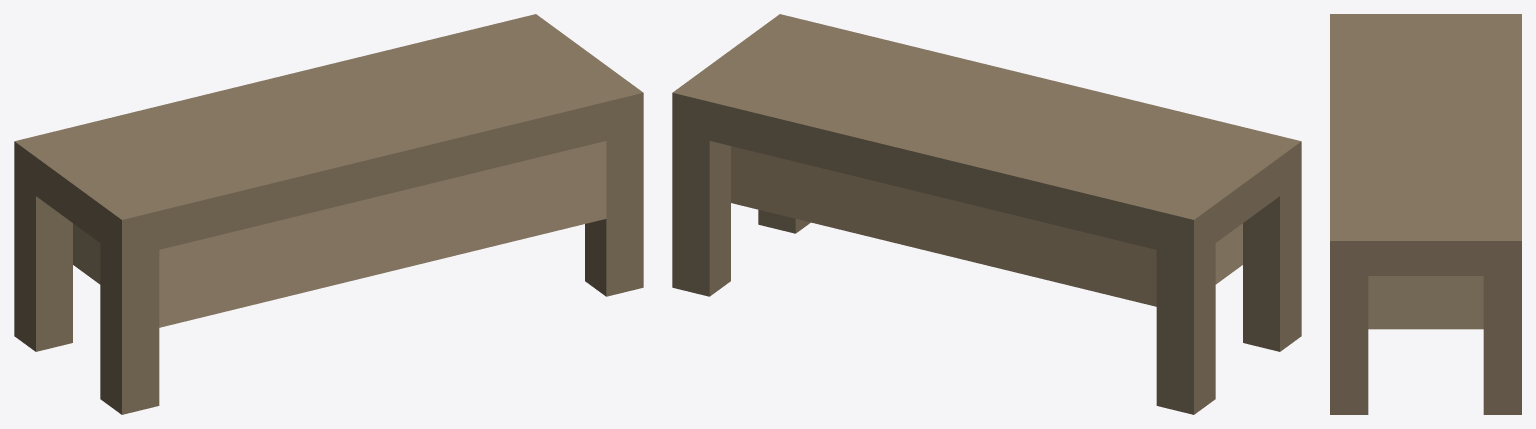
File: banco_madera_01.glb
3 views of the same model, side by side, from view 1: azimuth 30°, elevation 25°; view 2: azimuth 150°, elevation 25°; view 3: azimuth 270°, elevation 25° (orthographic). The views are drawn at different scales.
Visible parts, largest first — view 1: banco_madera_01; view 2: banco_madera_01; view 3: banco_madera_01.
Boxes of the visible parts, box(x1,y1,x2,y2) form: banco_madera_01: box(14, 14, 643, 414); banco_madera_01: box(672, 14, 1301, 414); banco_madera_01: box(1330, 14, 1521, 414).
Size of the model in its own units: 1.4 by 0.5 by 0.5.
